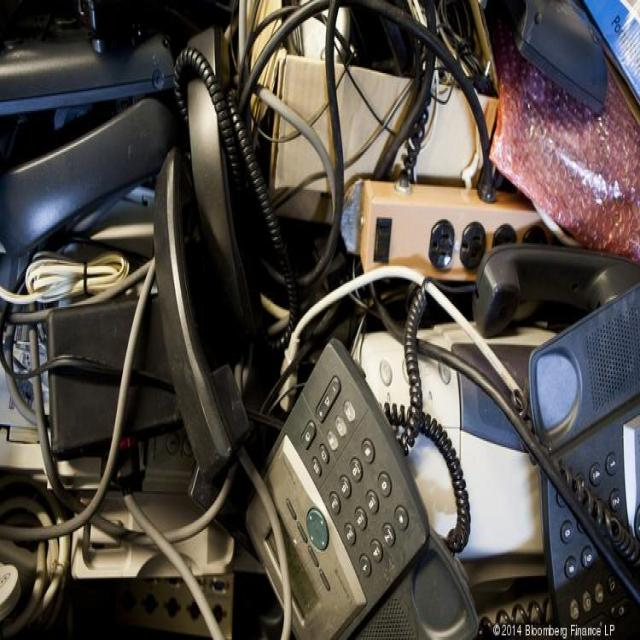Hazard: (1, 0, 636, 629)
